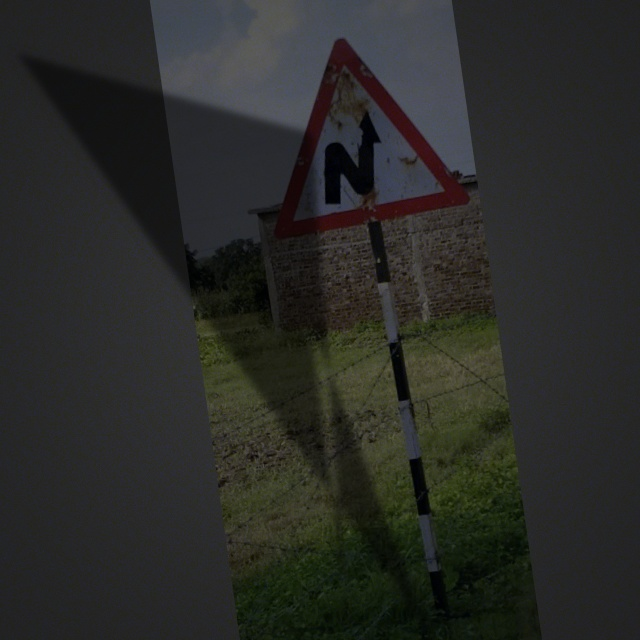Right_Reverse_Bend: (251, 23, 472, 235)
